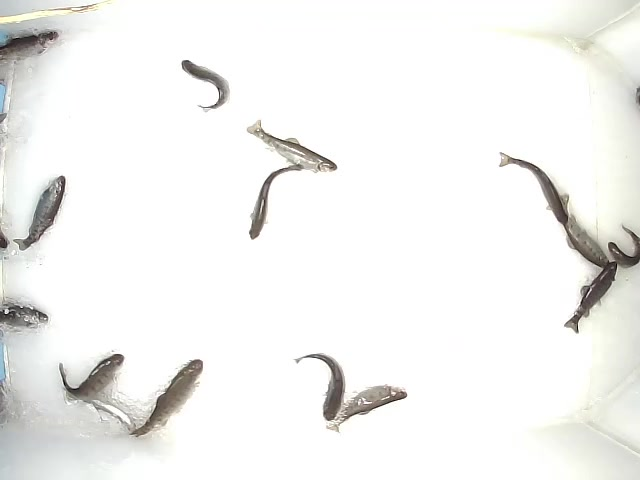fish: (126, 355, 205, 445), (499, 150, 573, 228), (244, 117, 340, 172), (246, 159, 305, 241), (325, 383, 409, 436), (550, 202, 617, 268), (13, 175, 68, 254), (291, 351, 353, 421), (560, 261, 617, 337), (176, 56, 233, 113), (61, 390, 138, 432), (59, 351, 127, 397), (605, 220, 640, 269)
